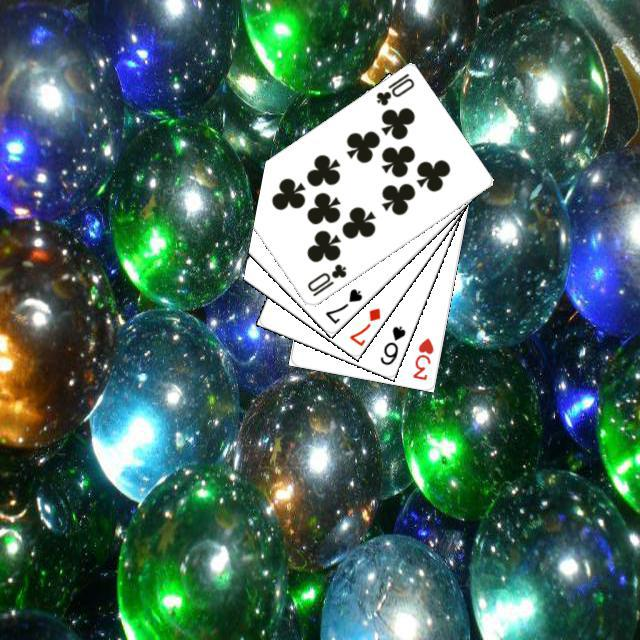10c: (302, 259, 348, 298), (371, 68, 416, 107)
3h: (408, 333, 435, 382)
6s: (375, 321, 407, 367)
7d: (344, 302, 383, 347)
7s: (320, 283, 364, 326)
